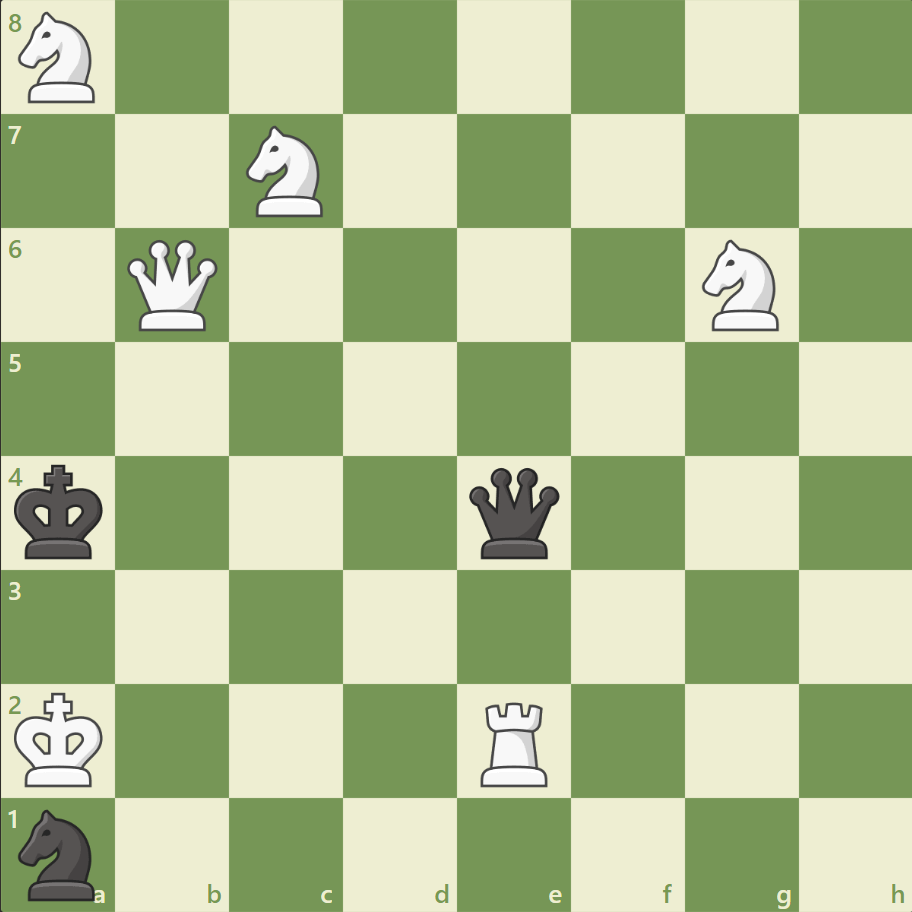K: (11, 685, 111, 793)
N: (11, 7, 108, 110), (692, 234, 789, 337), (238, 121, 335, 223)
Q: (124, 236, 223, 335)
R: (473, 693, 556, 790)
k: (11, 458, 111, 566)
n: (11, 802, 108, 904)
q: (464, 463, 563, 562)
